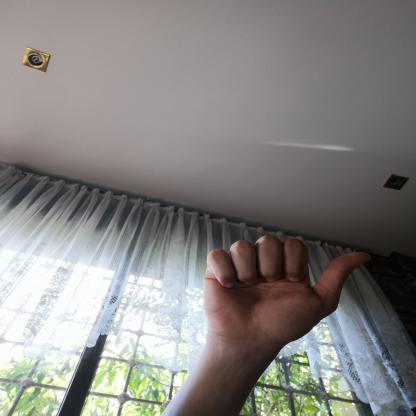DAD: (190, 226, 382, 354)
